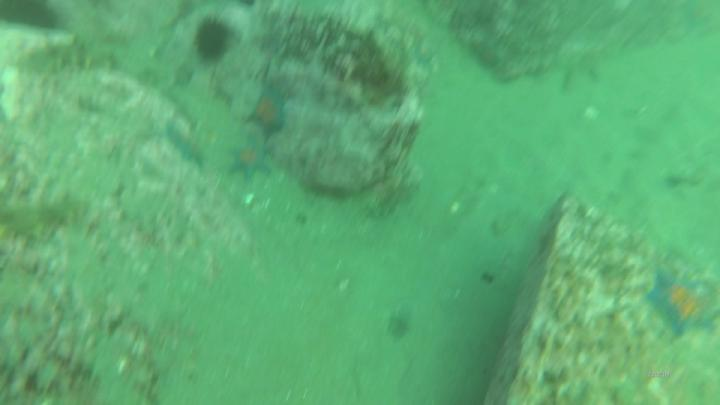echinus: (191, 15, 239, 65)
holothurian: (3, 197, 91, 249), (43, 32, 123, 77)
starfish: (647, 269, 720, 341), (165, 124, 209, 171), (227, 143, 275, 186), (250, 90, 289, 137)
